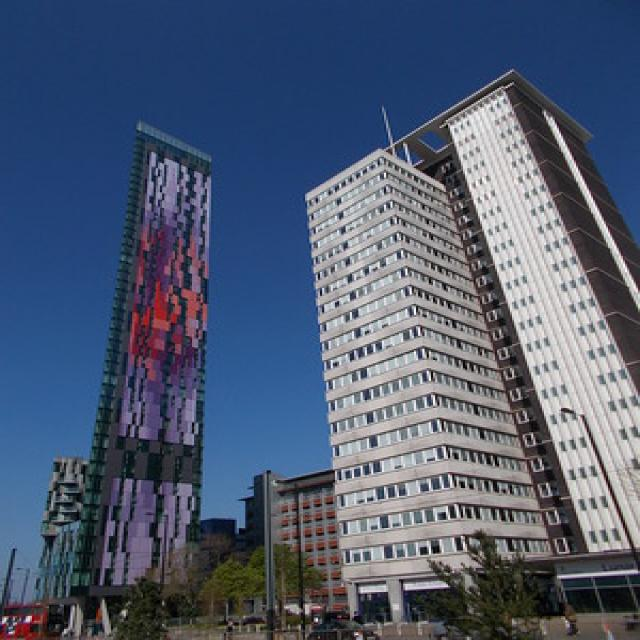Normal_building: (294, 64, 640, 640), (42, 114, 204, 611)
